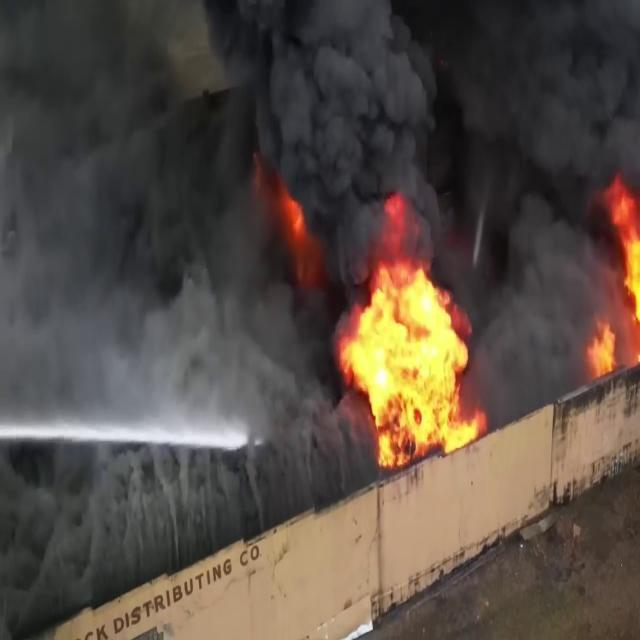Fire: (338, 248, 487, 471), (590, 185, 640, 380)
Smoke: (0, 0, 638, 349)
